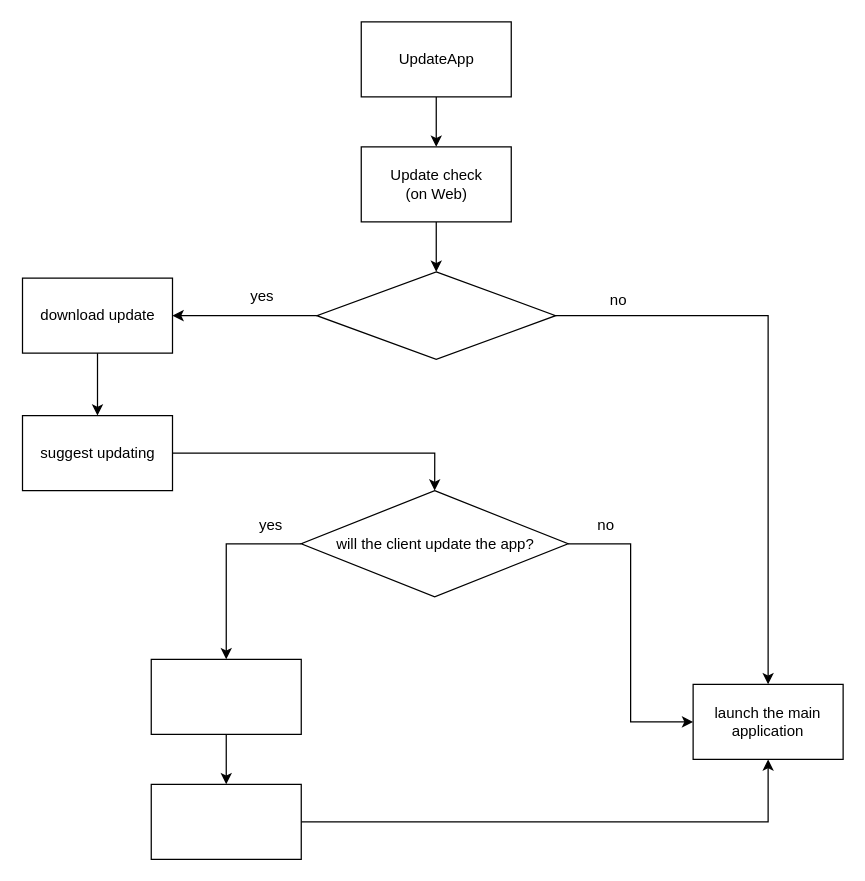
The diagram is 865 pixels wide and 881 high, and some of its shapes have lost their labels. The shapes that lost their labels are listed below. From the top down, each one's centre as x and y in pixels, then its label:
At (436,315): "If an update is available".
At (225,696): "deleting old files".
At (225,821): "installing a new version of the program".
